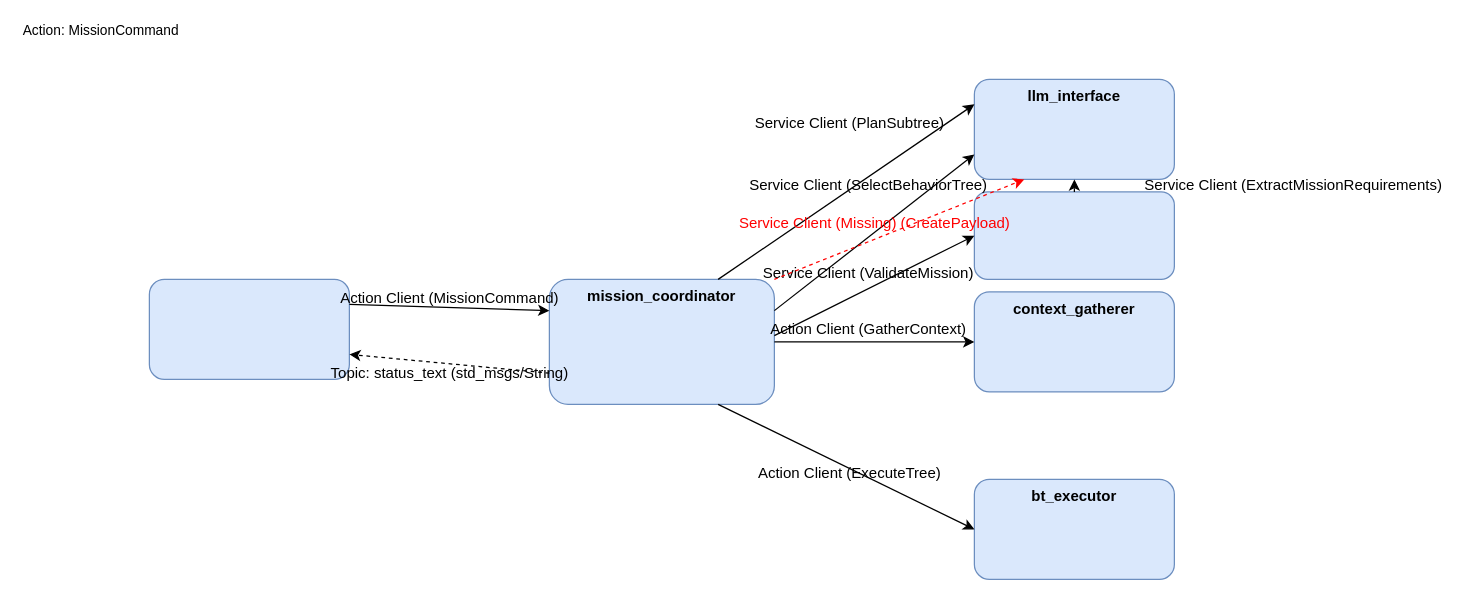
This 1463x601 diagram has some shape labels left out. The shapes that lost their labels are listed below. From the top down, each one's centre as x and y in pixels, then its label:
At pixel 1073 235: "mission_reasoner".
At pixel 248 328: "user_interface".
